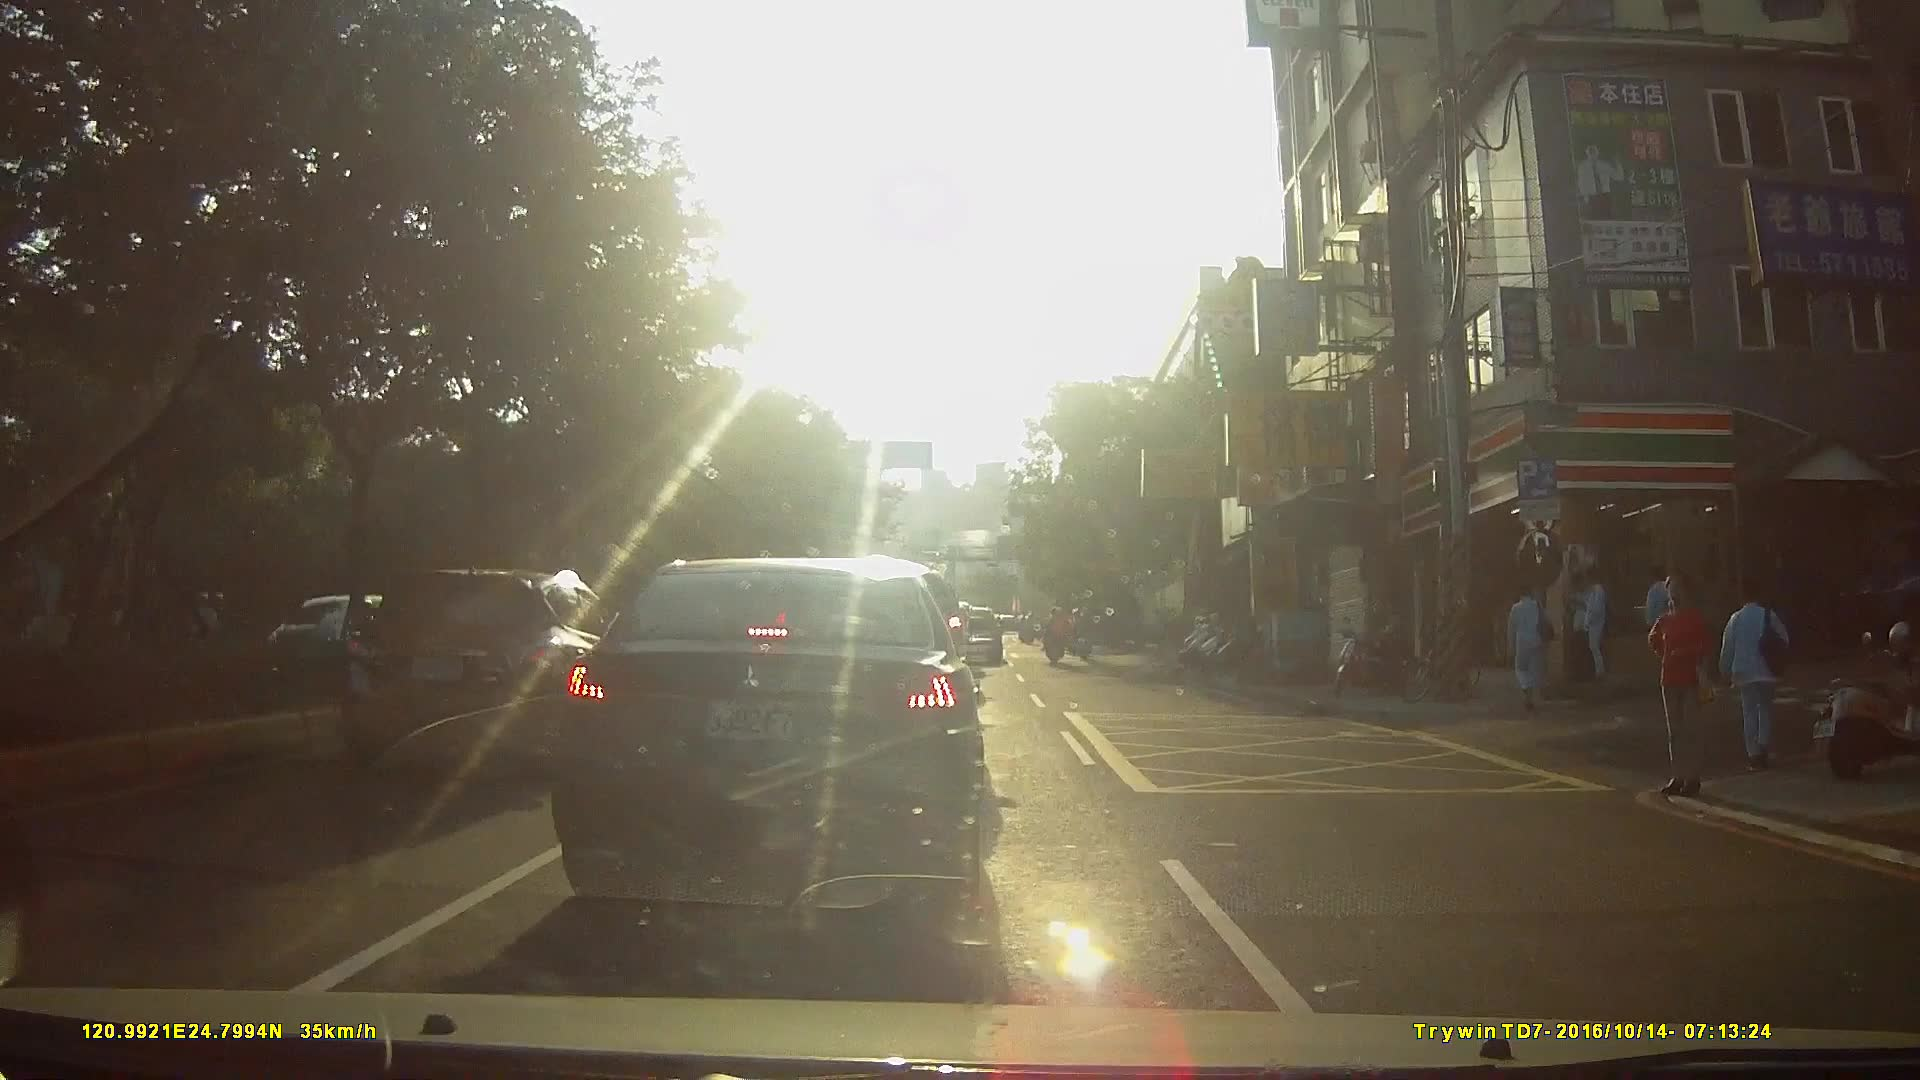pedestrian: (1642, 574, 1711, 796), (1718, 582, 1795, 772), (1501, 580, 1555, 713), (1566, 569, 1610, 683), (1565, 569, 1588, 688)
rider: (1041, 606, 1072, 669), (1067, 607, 1092, 660)
vehicle: (545, 556, 1007, 914), (333, 566, 670, 794)
